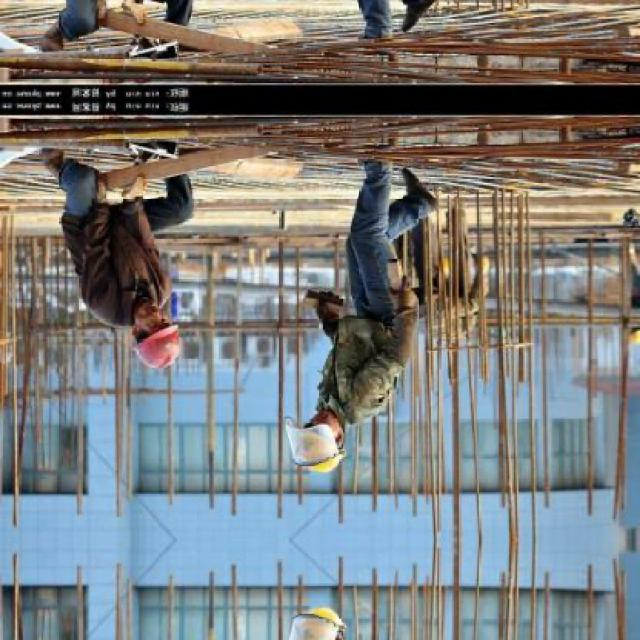con casco: (78, 286, 207, 390), (270, 390, 356, 482)
